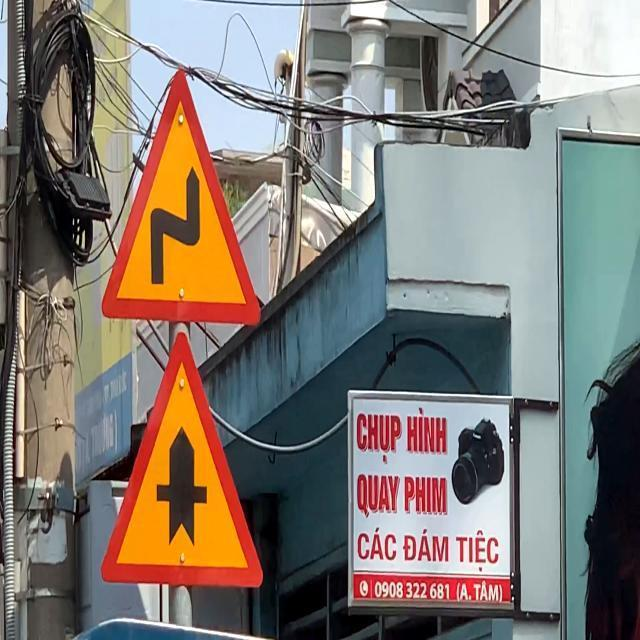201-cho-ngoat-nguy-hiem: (104, 68, 264, 326)
207-giao-nhau-voi-duong-khong-uu-tien: (98, 331, 266, 585)
